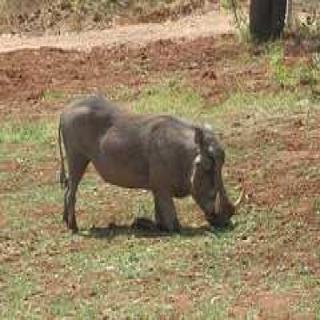Pig: (44, 56, 258, 242)
